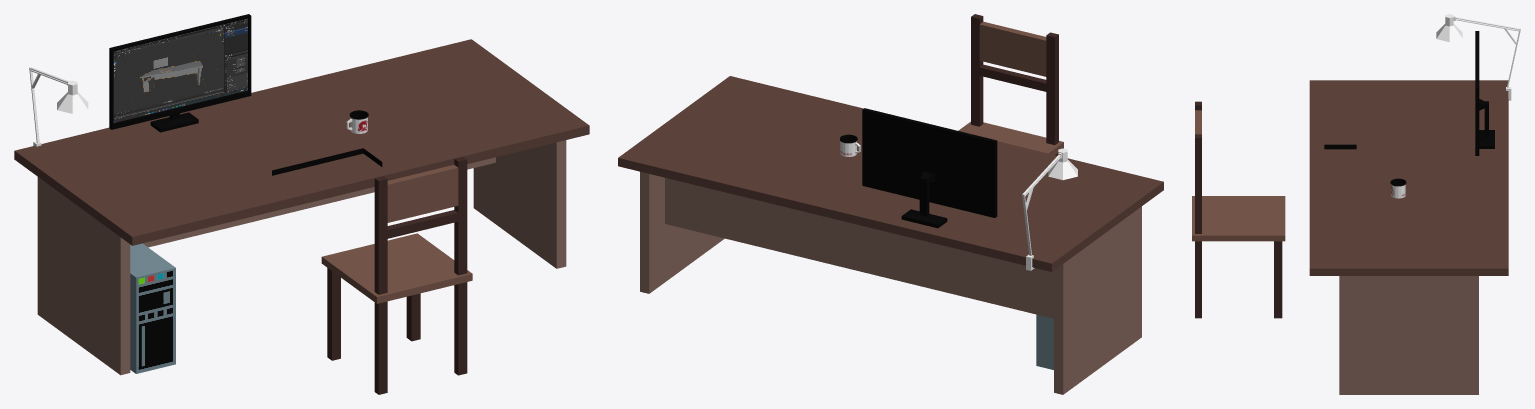
The model's file is my room test.obj.
The picture shows the model from 3 angles, left to right: view 1: azimuth 30°, elevation 25°; view 2: azimuth 150°, elevation 25°; view 3: azimuth 270°, elevation 25°; orthographic projection. The views are drawn at different scales.
Parts seen in each view (by area): view 1: desk_Cube.006, chair_Cube.010, monitor_1_Cube.007, pc_Cube.008, desk_lamp_Cylinder.002, keyboard_Cube.009; view 2: desk_Cube.006, monitor_1_Cube.007, chair_Cube.010, desk_lamp_Cylinder.002, pc_Cube.008; view 3: desk_Cube.006, chair_Cube.010, monitor_1_Cube.007, desk_lamp_Cylinder.002, mug_Cylinder.001.
Part boxes in pixels (<box>): desk_Cube.006: <box>14,39,589,375</box>; chair_Cube.010: <box>321,156,472,394</box>; monitor_1_Cube.007: <box>109,14,251,132</box>; pc_Cube.008: <box>130,243,175,373</box>; desk_lamp_Cylinder.002: <box>29,67,88,146</box>; keyboard_Cube.009: <box>272,148,382,175</box>; desk_Cube.006: <box>618,76,1163,394</box>; monitor_1_Cube.007: <box>862,108,997,228</box>; chair_Cube.010: <box>958,14,1063,155</box>; desk_lamp_Cylinder.002: <box>1022,148,1077,270</box>; pc_Cube.008: <box>1036,314,1053,369</box>; desk_Cube.006: <box>1309,80,1508,394</box>; chair_Cube.010: <box>1192,101,1285,318</box>; monitor_1_Cube.007: <box>1475,31,1494,155</box>; desk_lamp_Cylinder.002: <box>1436,14,1520,100</box>; mug_Cylinder.001: <box>1390,178,1406,198</box>.
Bounding box in the file's own units: 0.9291 × 0.4837 × 0.6861.
Materials: 7 (7 with a texture image).
